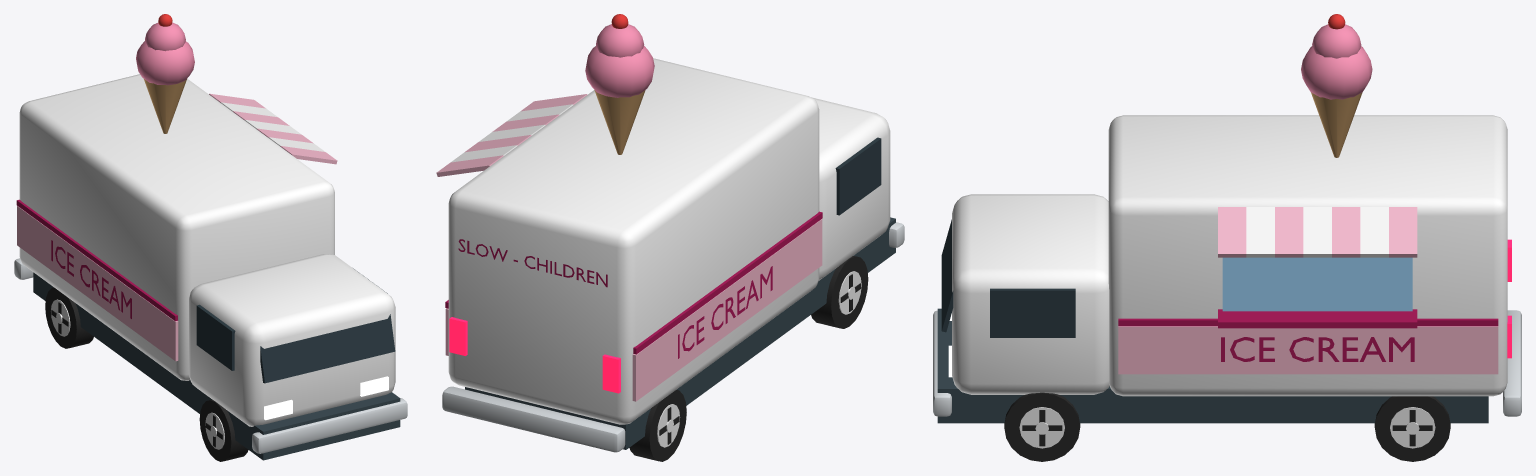
File: roadevents_icecream_truck.glb
3 views of the same model, side by side, from view 1: azimuth 30°, elevation 25°; view 2: azimuth 150°, elevation 25°; view 3: azimuth 270°, elevation 25° (orthographic). The views are drawn at different scales.
Visible parts, largest first — view 1: IceTruck_body, Wheel_FR, Wheel_RR.001; view 2: IceTruck_body, Wheel_FR, Wheel_RR.001; view 3: IceTruck_body, Wheel_FL, Wheel_RL.001.
Part boxes in pixels (x1,y1,x2,y2): IceTruck_body: (14,14,407,460); Wheel_FR: (199,399,248,461); Wheel_RR.001: (45,287,93,348); IceTruck_body: (436,14,904,452); Wheel_FR: (811,256,868,328); Wheel_RR.001: (629,389,686,461); IceTruck_body: (933,14,1521,423); Wheel_FL: (1004,392,1080,461); Wheel_RL.001: (1374,396,1450,461).
Bounding box in the file's own units: 2.98 × 4.7 × 6.2.
